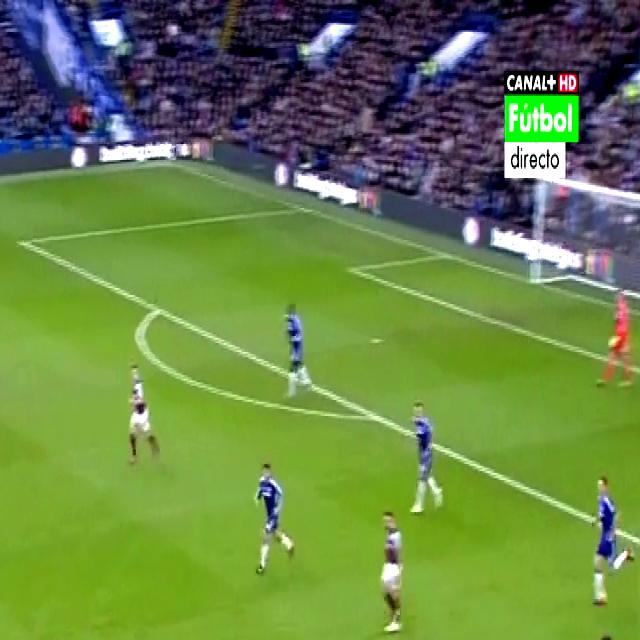goalkeeper: (595, 284, 640, 402)
soccer-player: (582, 456, 637, 616), (113, 338, 167, 476), (249, 452, 303, 587), (403, 393, 448, 514), (374, 494, 407, 640), (278, 294, 314, 403), (588, 624, 635, 640)
